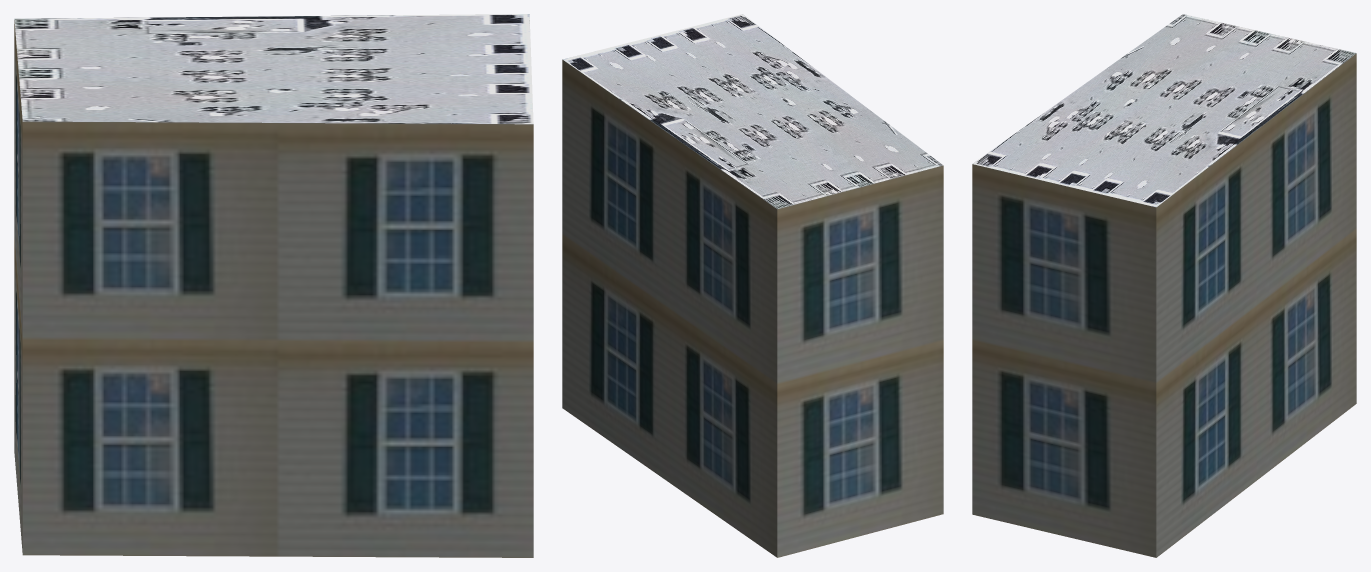
File: ResTex__776.fbx
3 renders of one model, left to right at view 1: azimuth 30°, elevation 25°; view 2: azimuth 150°, elevation 25°; view 3: azimuth 270°, elevation 25°, orthographic. The views are drawn at different scales.
Parts seen in each view (by area): view 1: CityEngineMaterial_7_m, CityEngineMaterial_4_m; view 2: CityEngineMaterial_7_m, CityEngineMaterial_4_m; view 3: CityEngineMaterial_7_m, CityEngineMaterial_4_m.
Boxes of the visible parts, x1,y1,x2,y2 form: CityEngineMaterial_7_m: (14,20,533,557); CityEngineMaterial_4_m: (14,14,533,124); CityEngineMaterial_7_m: (562,59,943,557); CityEngineMaterial_4_m: (562,14,942,208); CityEngineMaterial_7_m: (972,53,1356,557); CityEngineMaterial_4_m: (972,14,1356,207).
Bounding box in the file's own units: 7.1 × 6 × 5.97.
Materials: 2 (2 with a texture image).
